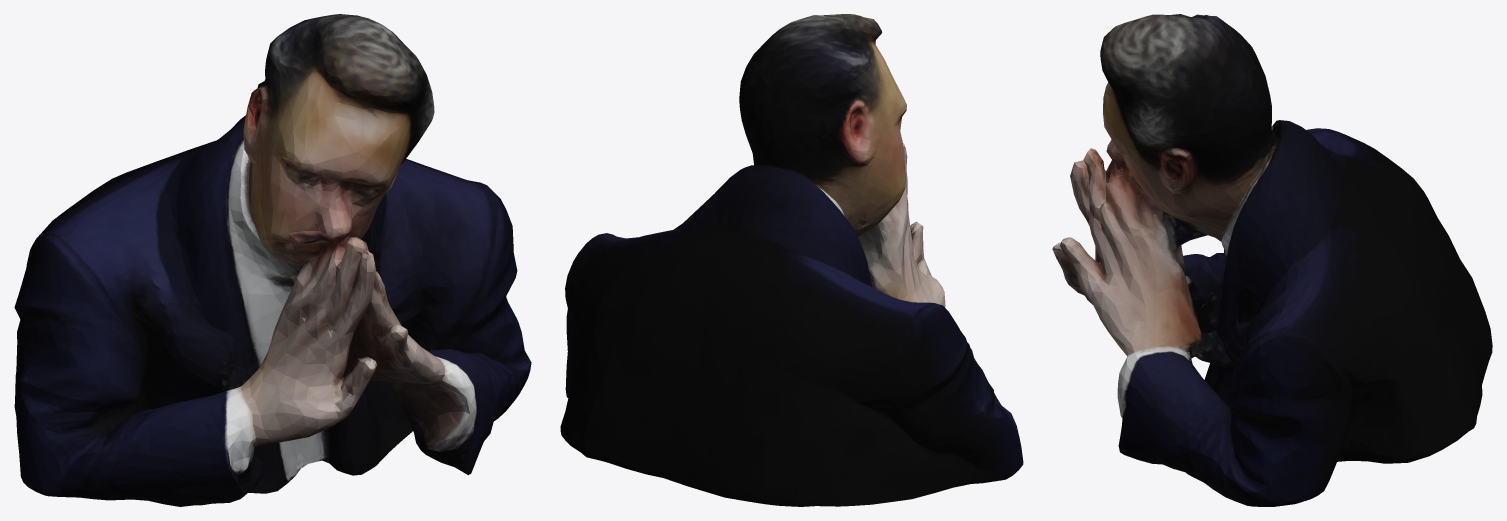
The picture shows the model from 3 angles, left to right: view 1: azimuth 30°, elevation 25°; view 2: azimuth 150°, elevation 25°; view 3: azimuth 270°, elevation 25°; orthographic projection. The views are drawn at different scales.
Visible parts, largest first — view 1: world; view 2: world; view 3: world.
Boxes of the visible parts, box(x1,y1,x2,y2) form: world: box(14, 14, 531, 506); world: box(560, 14, 1023, 506); world: box(1052, 14, 1492, 506).
Bounding box in the file's own units: 0.6494 × 0.5752 × 0.562.
Materials: 1 (1 with a texture image).
